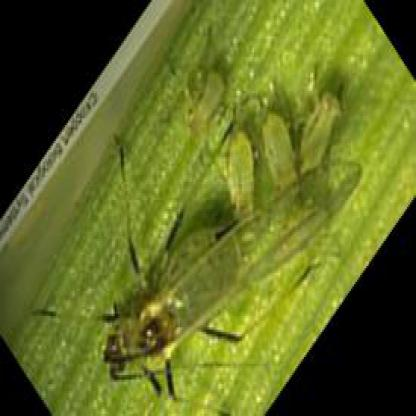schizaphis graminum: (300, 91, 342, 159), (264, 114, 302, 188), (230, 131, 258, 215)
